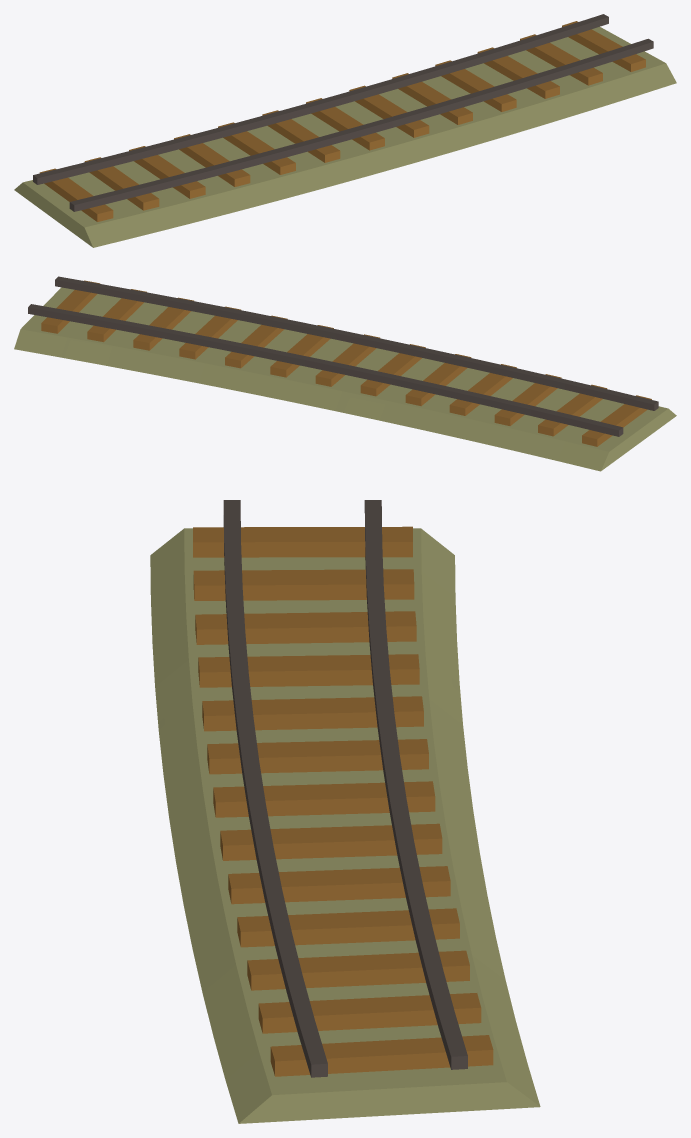
Rendered from SM_Via_CurvaR120_v1_Madera_LOD1.fbx.
3 renders of one model, top to bottom at view 1: azimuth 30°, elevation 25°; view 2: azimuth 150°, elevation 25°; view 3: azimuth 270°, elevation 25°, orthographic. The views are drawn at different scales.
Parts seen in each view (by area): view 1: SM_via_trazado_v16_LOD1; view 2: SM_via_trazado_v16_LOD1; view 3: SM_via_trazado_v16_LOD1.
Boxes of the visible parts, x1,y1,x2,y2 form: SM_via_trazado_v16_LOD1: (14,14,676,247); SM_via_trazado_v16_LOD1: (14,276,676,471); SM_via_trazado_v16_LOD1: (150,500,540,1123).
Bounding box in the file's own units: 15.9 × 0.72 × 4.61.
